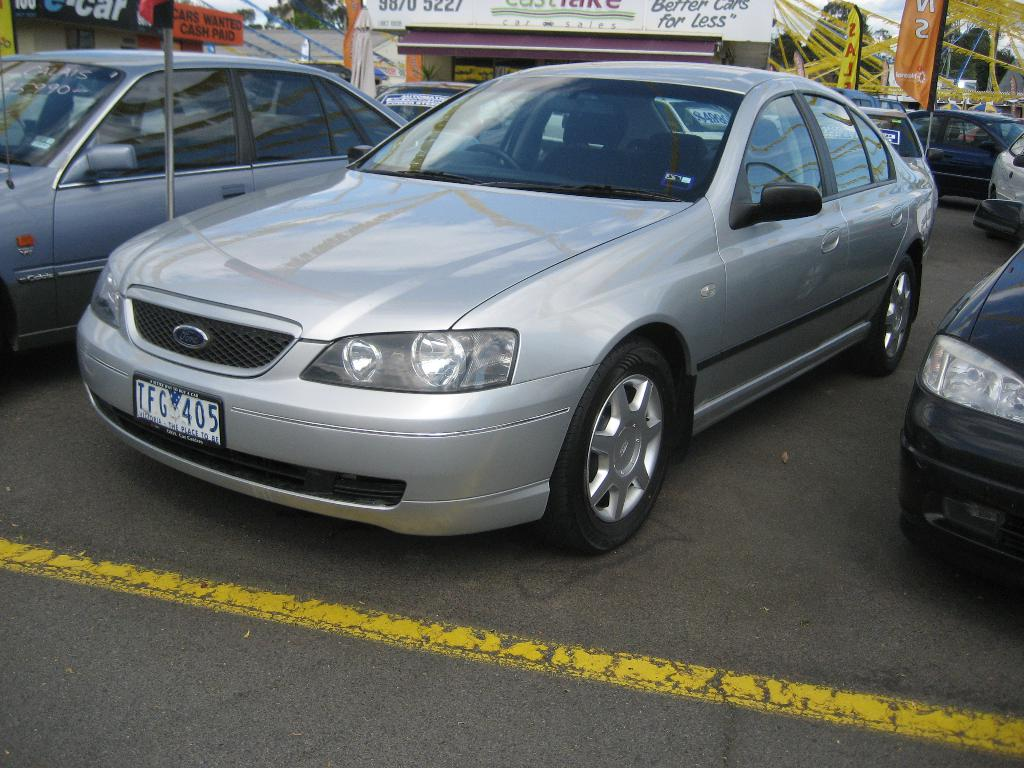Car: (71, 54, 930, 556), (0, 45, 405, 394), (887, 232, 1023, 600), (910, 107, 1023, 190), (855, 103, 938, 202), (361, 72, 475, 119)
